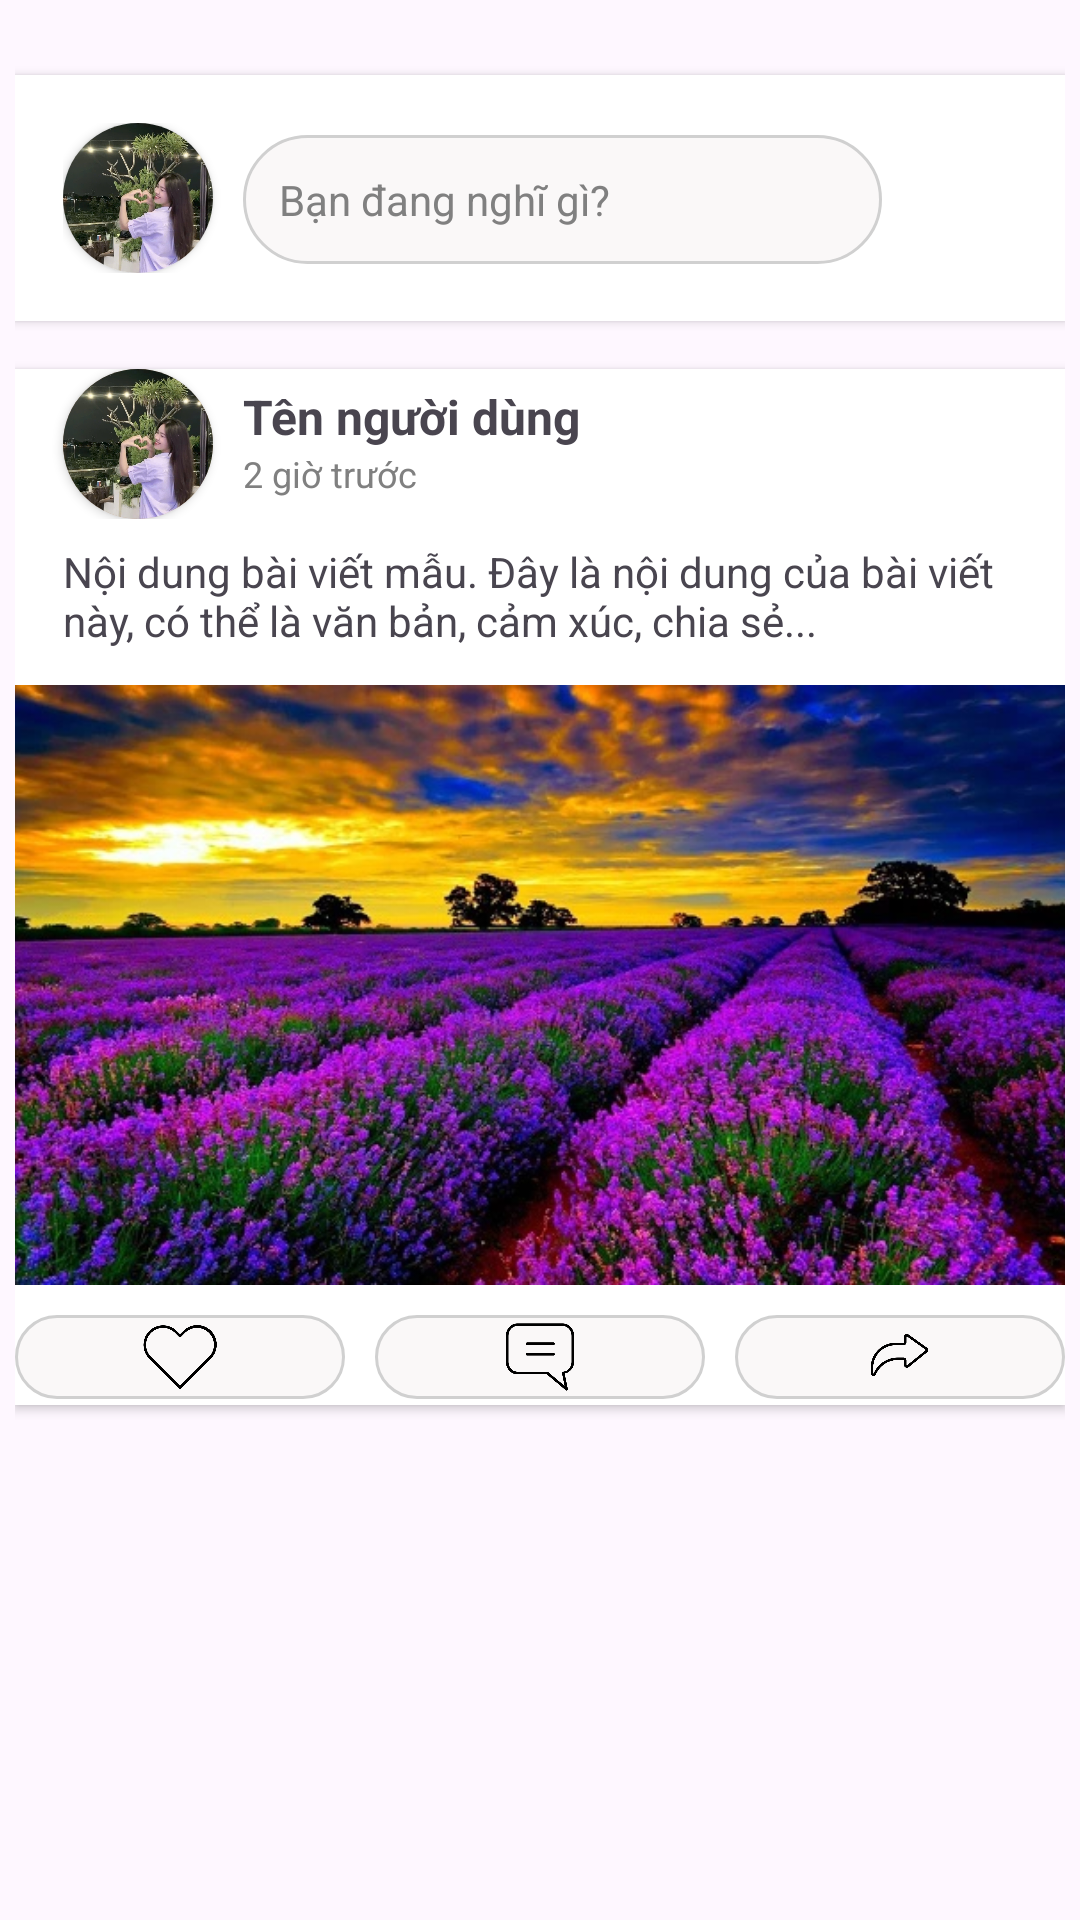

Icons on this 1080 x 1920 Android screen, each with its box as (x1, y1, x2, y2):
comment: (375, 1315, 705, 1399)
heart: (15, 1315, 345, 1399)
share: (735, 1315, 1065, 1399)
